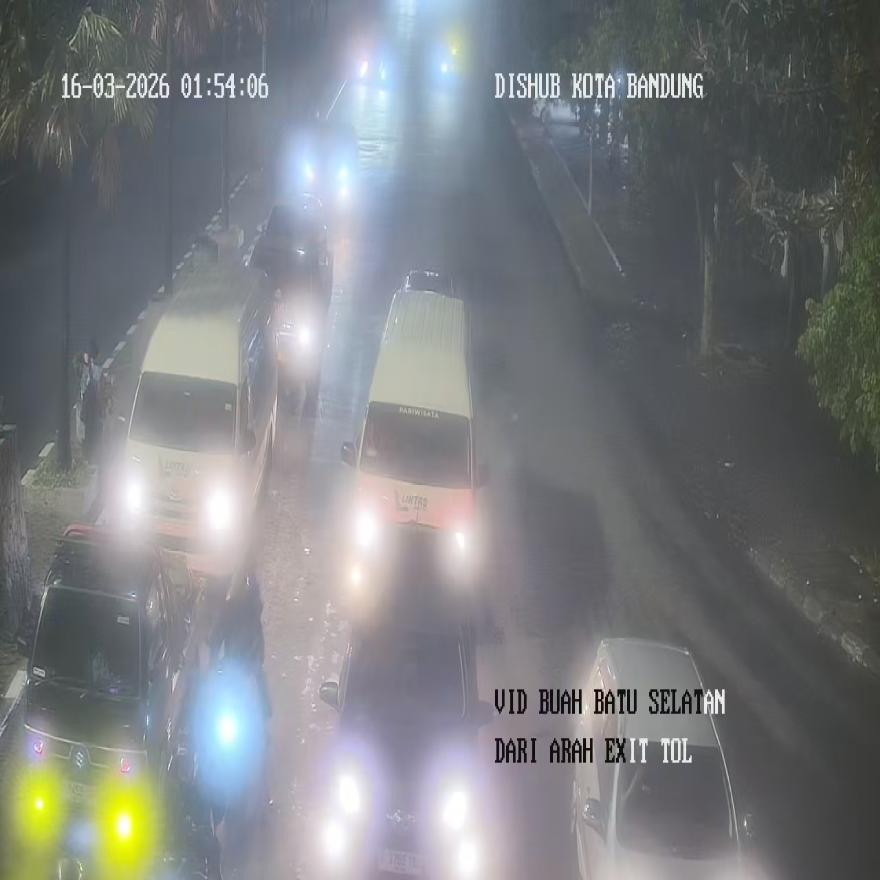Motor: (16, 523, 203, 870), (319, 542, 496, 877), (115, 260, 278, 574), (339, 272, 486, 608), (570, 638, 767, 879), (248, 193, 332, 417)
